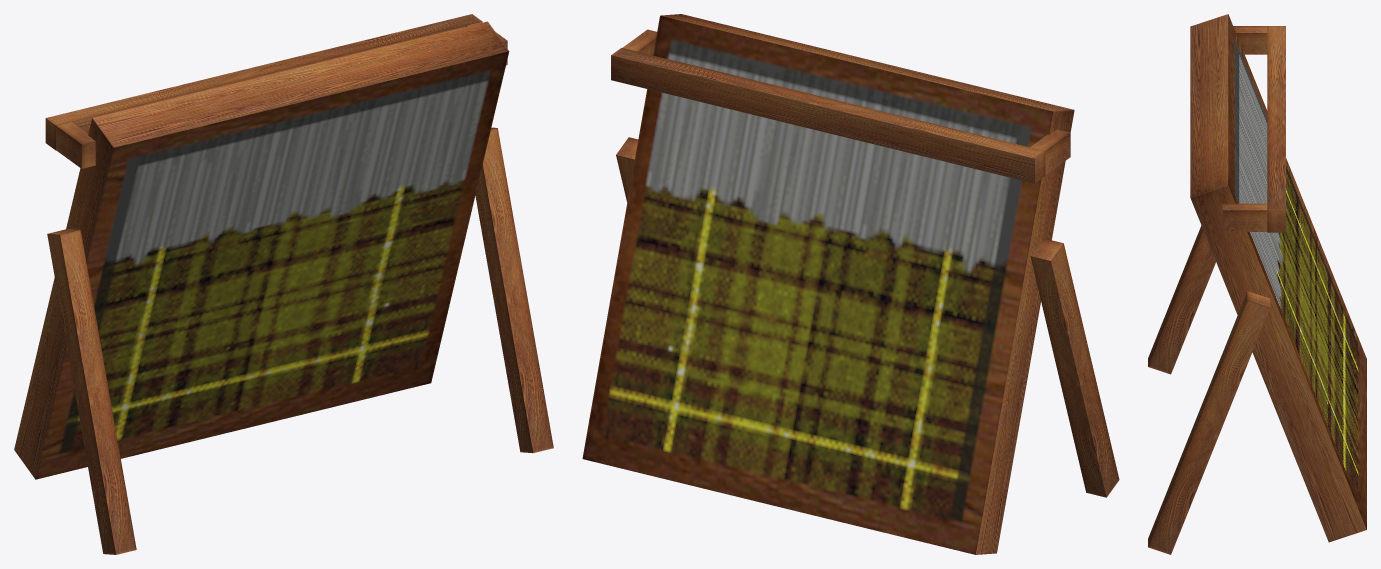
The model's file is HLoom.fbx.
3 renders of one model, left to right at view 1: azimuth 30°, elevation 25°; view 2: azimuth 150°, elevation 25°; view 3: azimuth 270°, elevation 25°, orthographic. The views are drawn at different scales.
Visible parts, largest first — view 1: HLOOM; view 2: HLOOM; view 3: HLOOM.
Part boxes in pixels (box(x1,y1,x2,y2)): HLOOM: box(14, 14, 553, 554); HLOOM: box(582, 14, 1119, 554); HLOOM: box(1148, 14, 1366, 554).
Bounding box in the file's own units: 11.06 × 9.83 × 5.4.
